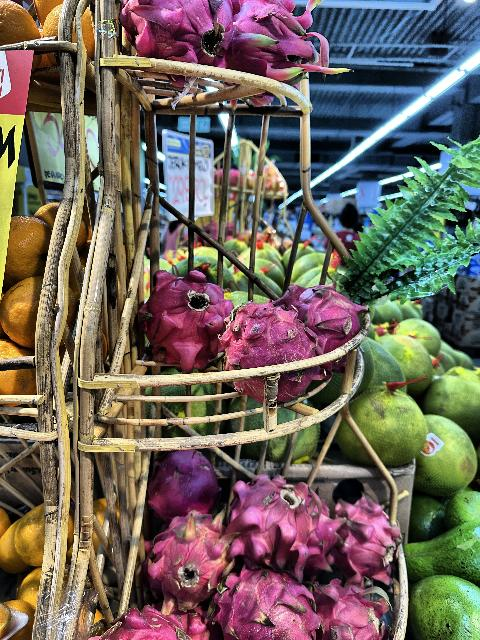buah-naga-matang: (208, 298, 320, 390), (230, 0, 338, 86), (229, 478, 331, 568), (139, 270, 245, 354), (116, 1, 228, 74), (147, 520, 239, 608), (278, 274, 372, 356), (216, 570, 322, 640), (336, 508, 410, 592), (317, 580, 385, 640)
